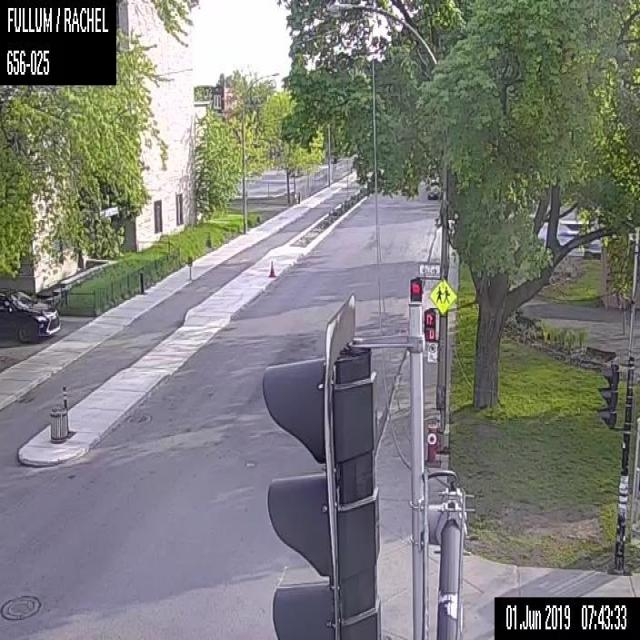construction: (268, 260, 275, 277)
vehicle: (0, 287, 59, 341), (427, 179, 441, 197)
